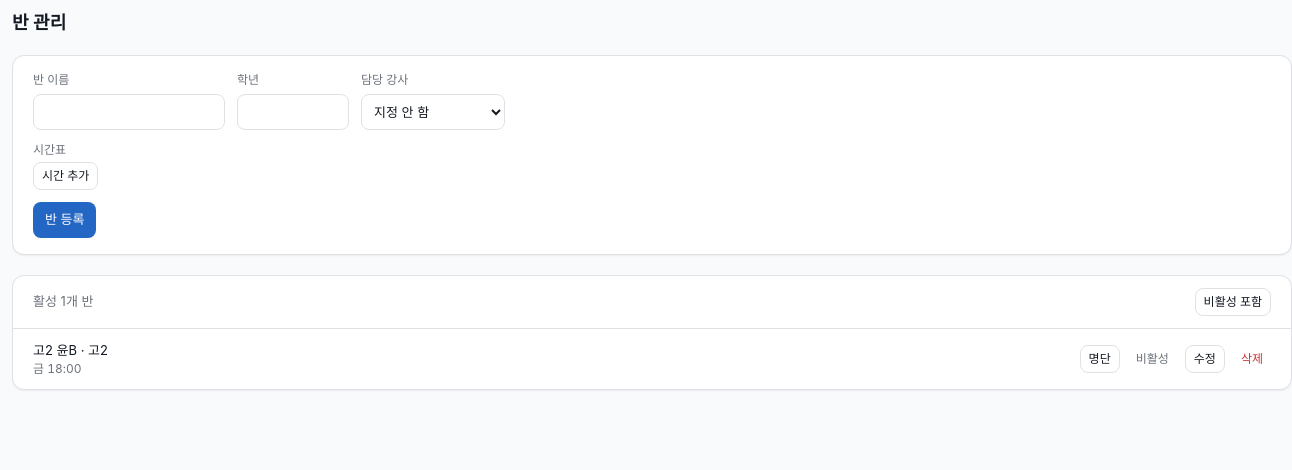
Scenario: ClassesPage › hides inactive classes until the filter is on
Expected: the text "고2 윤B · 고2" is shown, [33,340,108,359]
Expected: the text "고3 종강반" is not shown
Click the button "비활성 포함".
click(1233, 302)  # box [1195,288,1271,316]
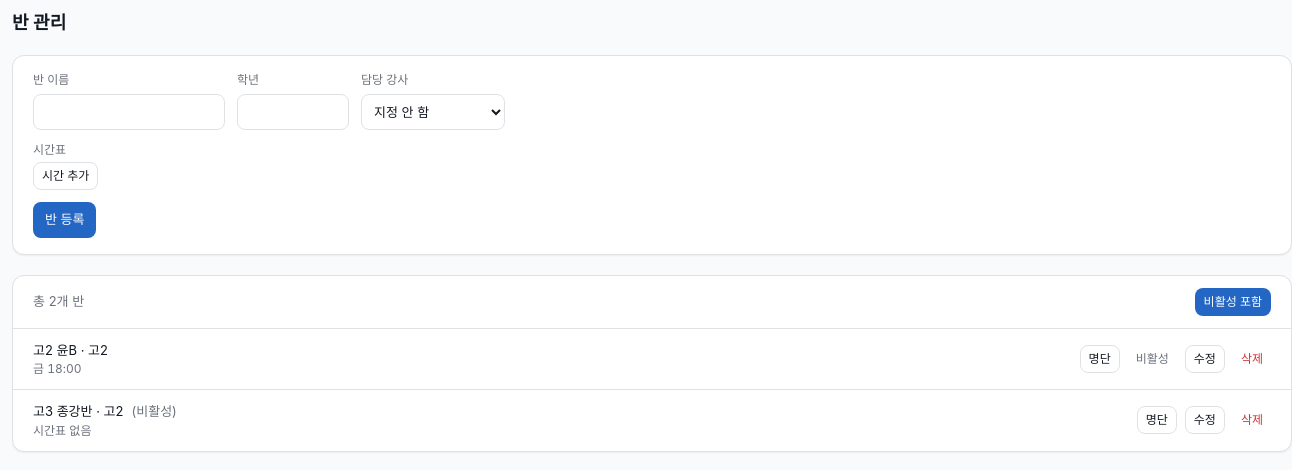
Now the text "고3 종강반 · 고2(비활성)" is shown, box [33,402,177,421]
